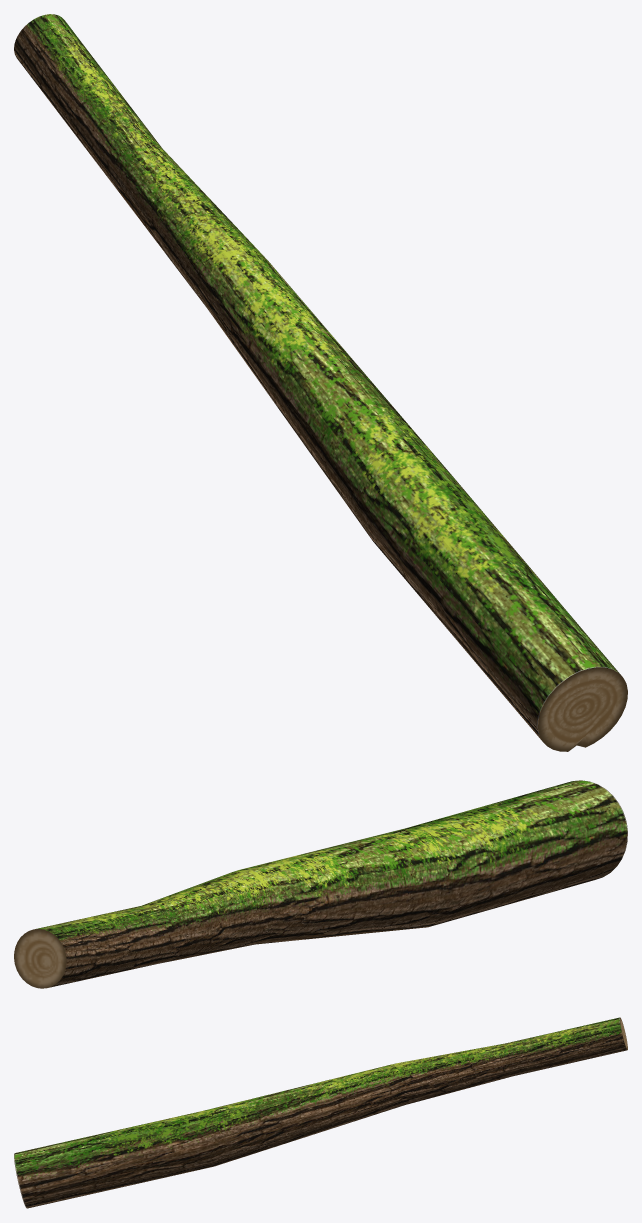
Rendered from Tree_Branch.fbx.
3 views of the same model, one above another, from view 1: azimuth 30°, elevation 25°; view 2: azimuth 150°, elevation 25°; view 3: azimuth 270°, elevation 25° (orthographic). The views are drawn at different scales.
Parts seen in each view (by area): view 1: Cylinder.001; view 2: Cylinder.001; view 3: Cylinder.001.
Boxes of the visible parts, x1,y1,x2,y2 form: Cylinder.001: [14, 14, 627, 751]; Cylinder.001: [14, 780, 627, 988]; Cylinder.001: [14, 1017, 627, 1208].
Bounding box in the file's own units: 157 × 572 × 1697.
